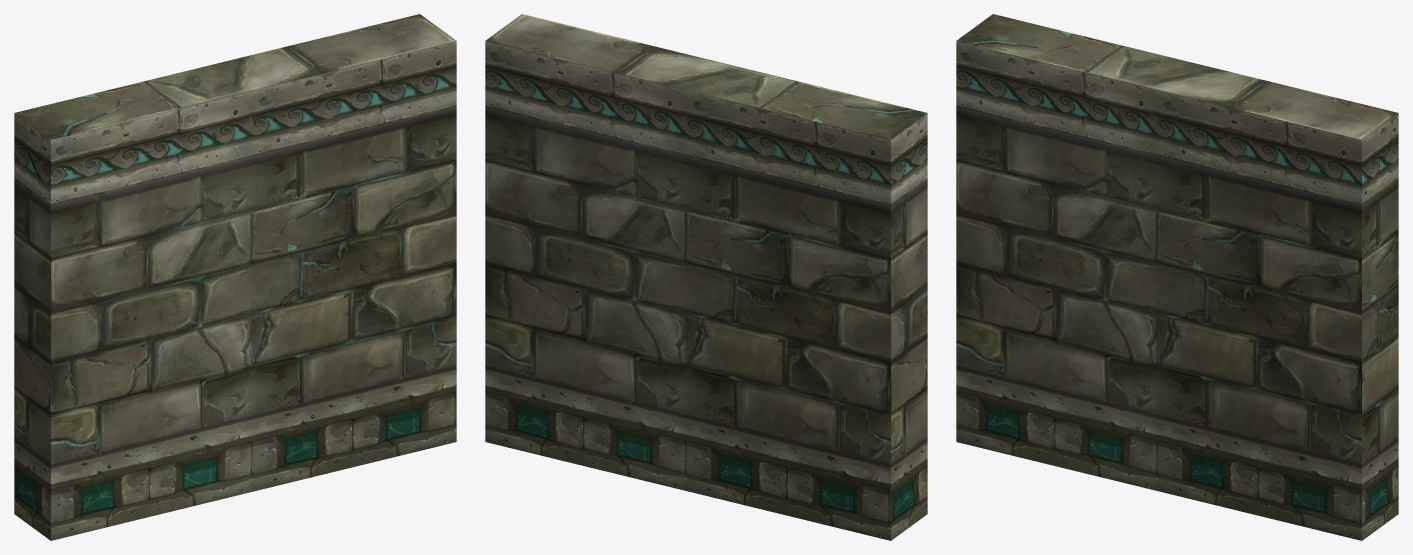
Rendered from F_waiqiang018.fbx.
The picture shows the model from 3 angles, left to right: view 1: azimuth 30°, elevation 25°; view 2: azimuth 150°, elevation 25°; view 3: azimuth 330°, elevation 25°; orthographic projection.
Parts seen in each view (by area): view 1: F_waiqiang018; view 2: F_waiqiang018; view 3: F_waiqiang018.
Boxes of the visible parts, x1,y1,x2,y2 form: F_waiqiang018: (14,14,456,540); F_waiqiang018: (485,14,927,540); F_waiqiang018: (956,14,1398,540).
Size of the model in its own units: 347 by 327 by 54.4.
